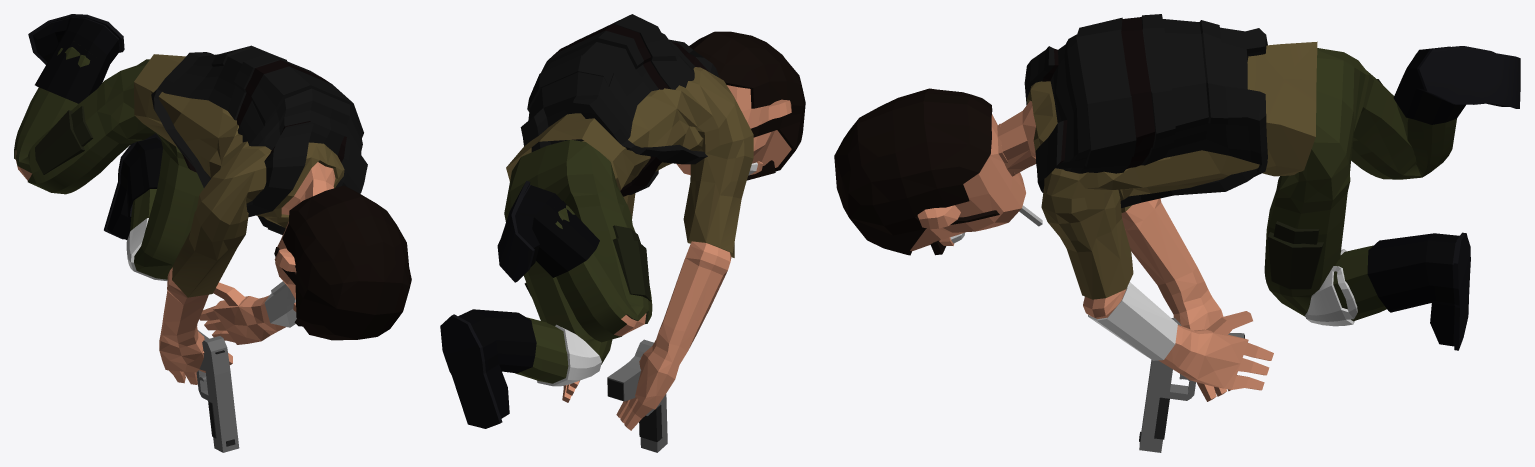
The model's file is frame_0011.obj.
3 renders of one model, left to right at view 1: azimuth 30°, elevation 25°; view 2: azimuth 150°, elevation 25°; view 3: azimuth 270°, elevation 25°, orthographic. The views are drawn at different scales.
Parts seen in each view (by area): view 1: Body, Gun; view 2: Body, Gun; view 3: Body, Gun.
Boxes of the visible parts, bbox=[...] form: Body: bbox=[14, 14, 411, 384]; Gun: bbox=[196, 330, 239, 452]; Body: bbox=[440, 14, 805, 430]; Gun: bbox=[607, 339, 667, 452]; Body: bbox=[834, 14, 1520, 401]; Gun: bbox=[1139, 318, 1244, 452].
Size of the model in its own units: 1.41 by 2.45 by 3.4.
